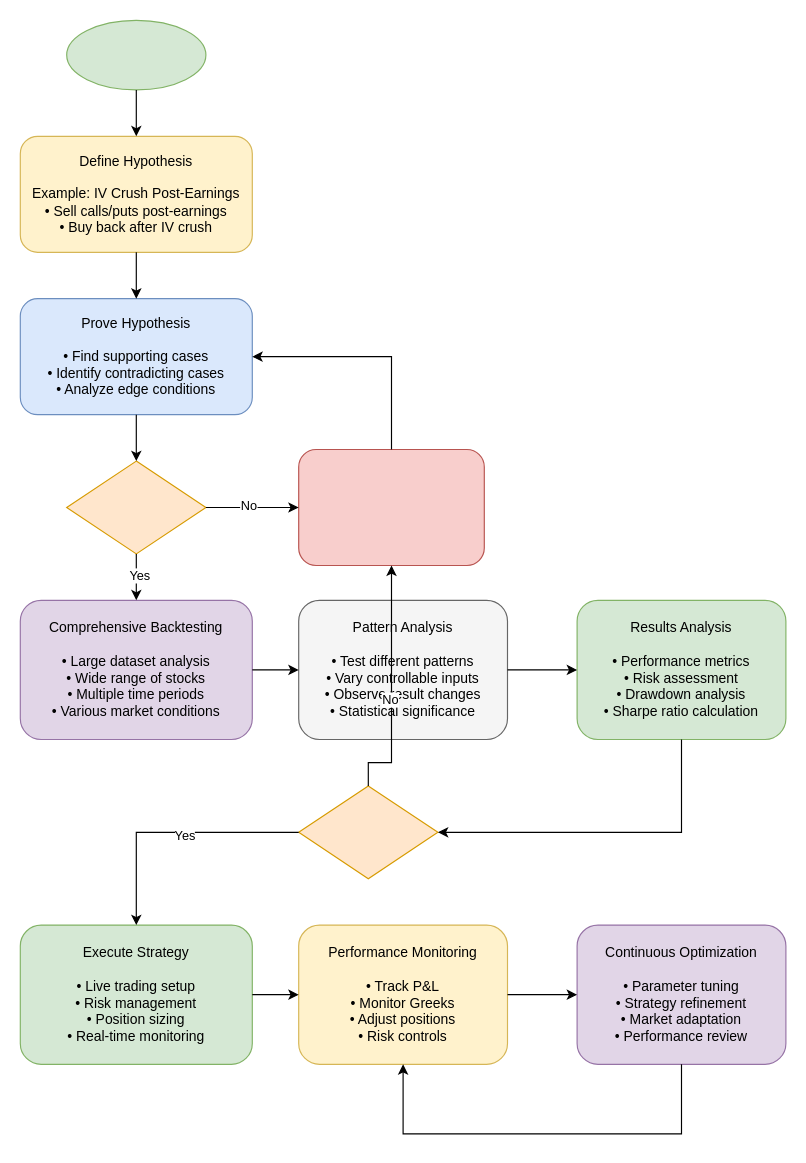
Some shapes in this 806 by 1163 pixel diagram are drawn without their labels. The centre of each missing label's shape, as x and y in pixels:
"Refine Hypothesis • Adjust parameters • Modify conditions • Re-evaluate criteria" goes at (x=391, y=507).
"Start" goes at (x=136, y=54).
"Strategy Viable?" goes at (x=368, y=832).
"Sufficient Conviction?" goes at (x=136, y=507).
